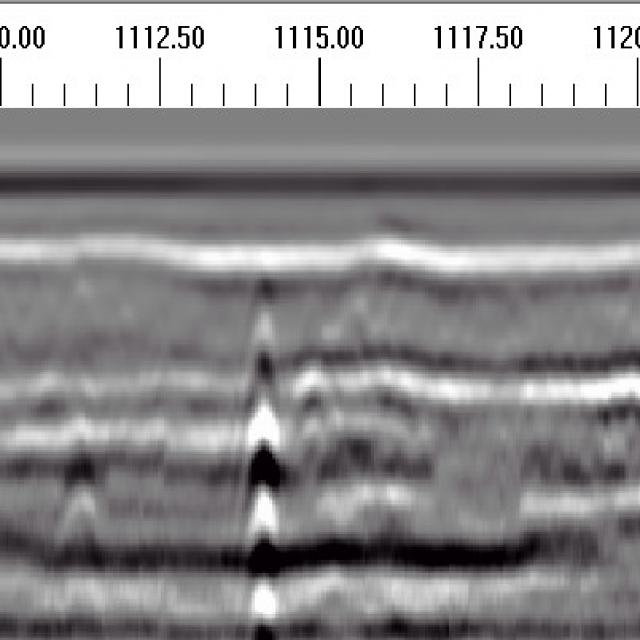crack: (243, 273, 283, 621)
